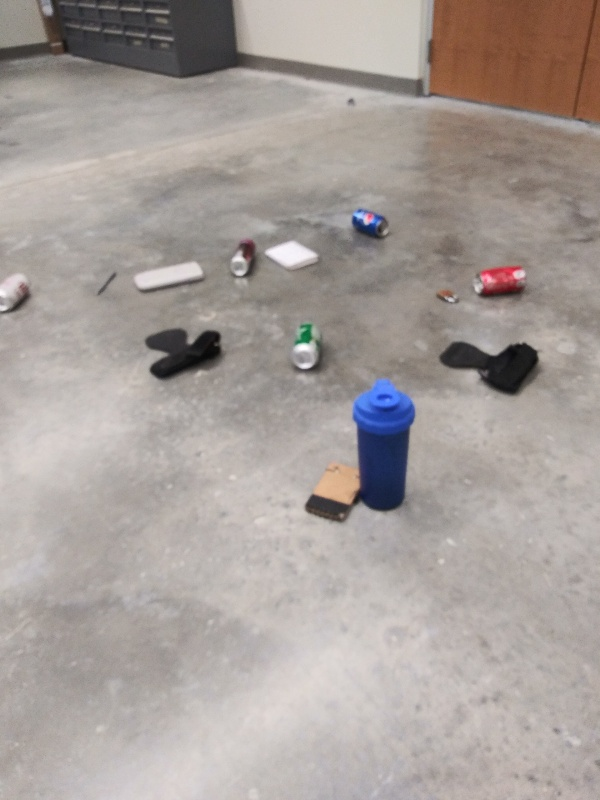can: (469, 262, 533, 301), (289, 315, 326, 373), (346, 201, 395, 244), (1, 268, 37, 317), (225, 234, 259, 281)
